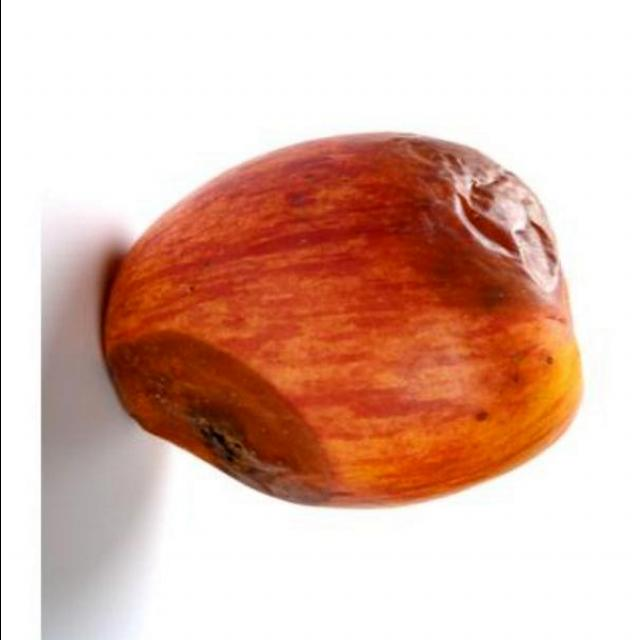ROT: (78, 120, 598, 516)
